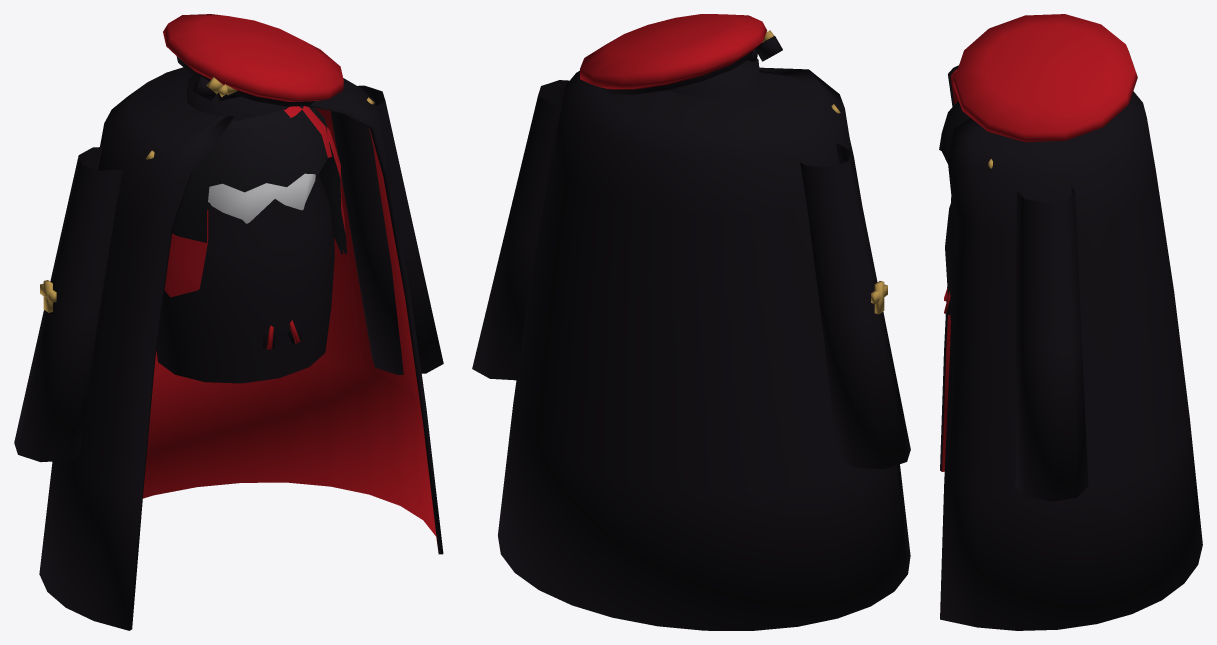
Rendered from mannequin_parts.glb.
3 renders of one model, left to right at view 1: azimuth 30°, elevation 25°; view 2: azimuth 150°, elevation 25°; view 3: azimuth 270°, elevation 25°, orthographic. The views are drawn at different scales.
Visible parts, largest first — view 1: chest__coat, hips__skirt, head__wig, head__beret, chest__shirt; view 2: chest__coat, head__beret, hips__skirt; view 3: chest__coat, head__beret, head__wig, hips__skirt.
Part boxes in pixels (<box>): chest__coat: <box>14,67,443,630</box>; hips__skirt: <box>156,75,334,383</box>; head__wig: <box>164,106,346,297</box>; head__beret: <box>163,14,343,106</box>; chest__shirt: <box>208,173,315,223</box>; chest__coat: <box>472,67,910,630</box>; head__beret: <box>580,14,782,94</box>; hips__skirt: <box>668,59,759,97</box>; chest__coat: <box>940,65,1202,630</box>; head__beret: <box>953,14,1137,142</box>; head__wig: <box>939,101,969,163</box>; hips__skirt: <box>945,201,953,319</box>.
Bounding box in the file's own units: 0.78 × 0.9218 × 0.4336.
